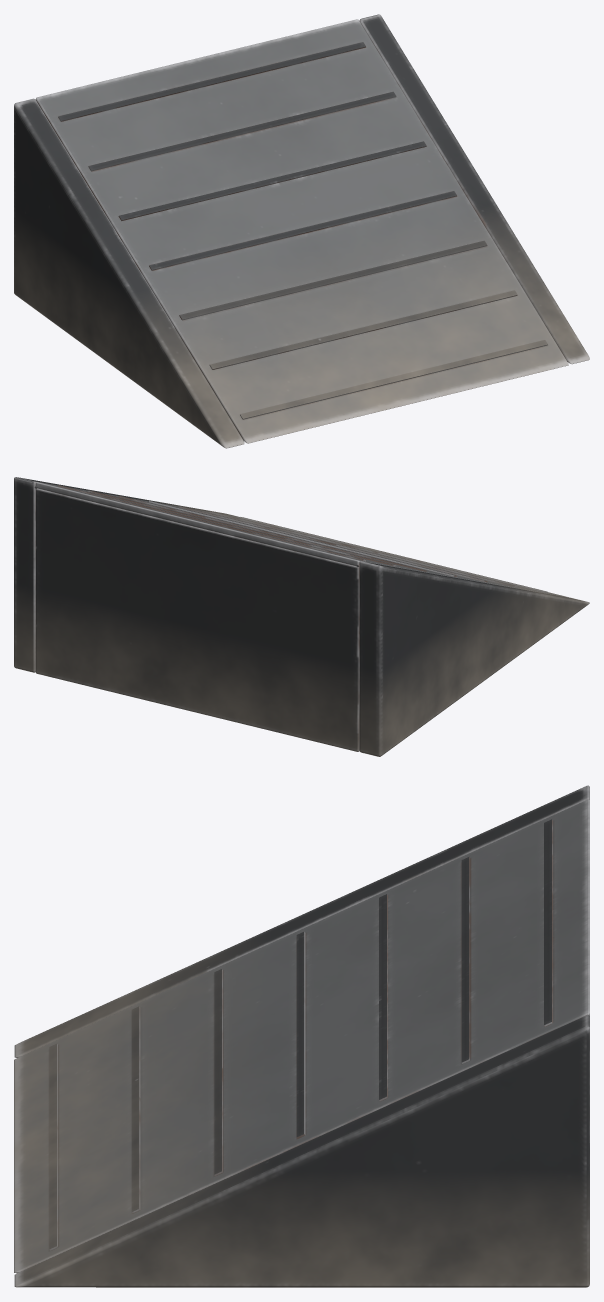
File: SM_Ramp1m.glb
3 views of the same model, one above another, from view 1: azimuth 30°, elevation 25°; view 2: azimuth 150°, elevation 25°; view 3: azimuth 270°, elevation 25° (orthographic). The views are drawn at different scales.
Parts seen in each view (by area): view 1: SM_Ramp1m; view 2: SM_Ramp1m; view 3: SM_Ramp1m.
Part boxes in pixels (x1,y1,x2,y2): SM_Ramp1m: (14, 14, 589, 448); SM_Ramp1m: (14, 477, 589, 756); SM_Ramp1m: (14, 785, 589, 1287).
Size of the model in its own units: 2 by 0.9974 by 2.
Materials: 3 (3 with a texture image).
